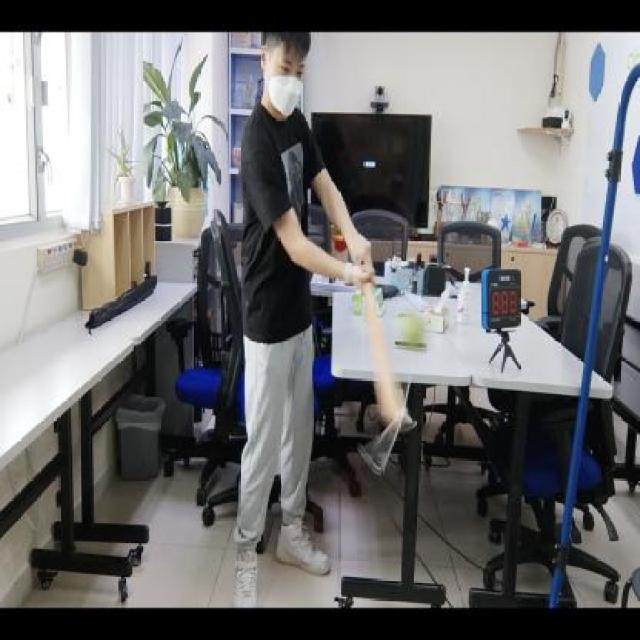baseball: (402, 312, 428, 354)
